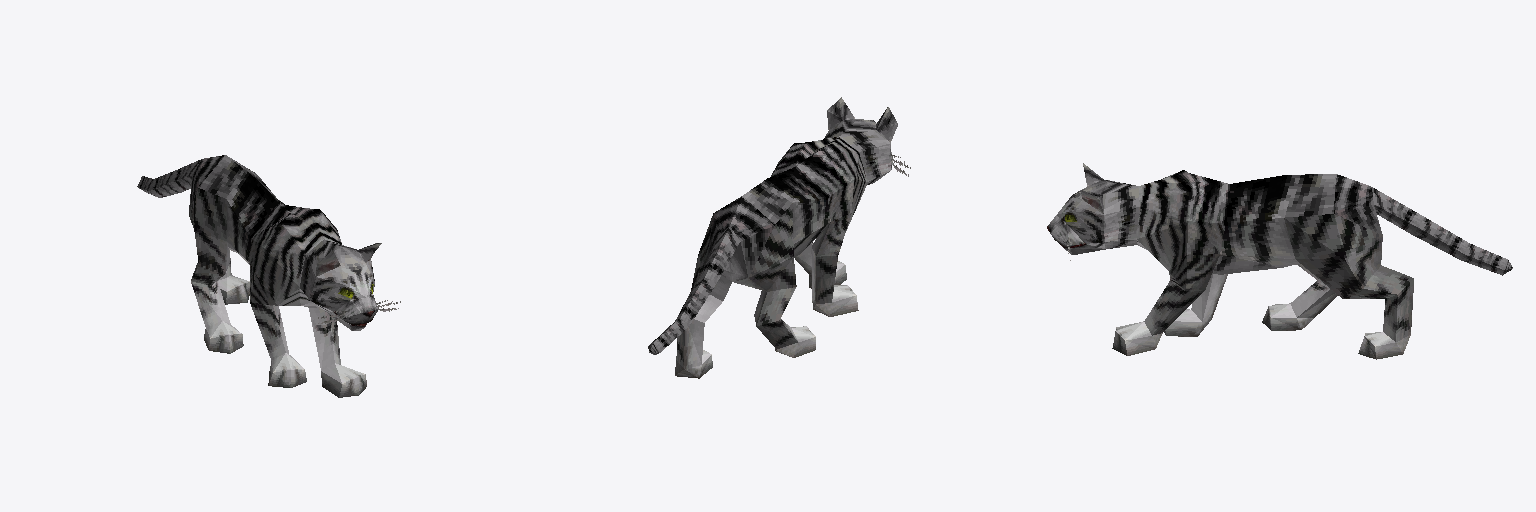
The picture shows the model from 3 angles: view 1: azimuth 30°, elevation 25°; view 2: azimuth 150°, elevation 25°; view 3: azimuth 270°, elevation 25°; orthographic projection.
Parts seen in each view (by area): view 1: creature/cat/cat.m2_Geoset_000; view 2: creature/cat/cat.m2_Geoset_000; view 3: creature/cat/cat.m2_Geoset_000.
Boxes of the visible parts, x1=… form: creature/cat/cat.m2_Geoset_000: x1=137, y1=155, x2=400, y2=397; creature/cat/cat.m2_Geoset_000: x1=648, y1=97, x2=910, y2=378; creature/cat/cat.m2_Geoset_000: x1=1047, y1=163, x2=1512, y2=359.
Bounding box in the file's own units: 0.43 × 0.6823 × 1.74.
1 materials, 1 textured.